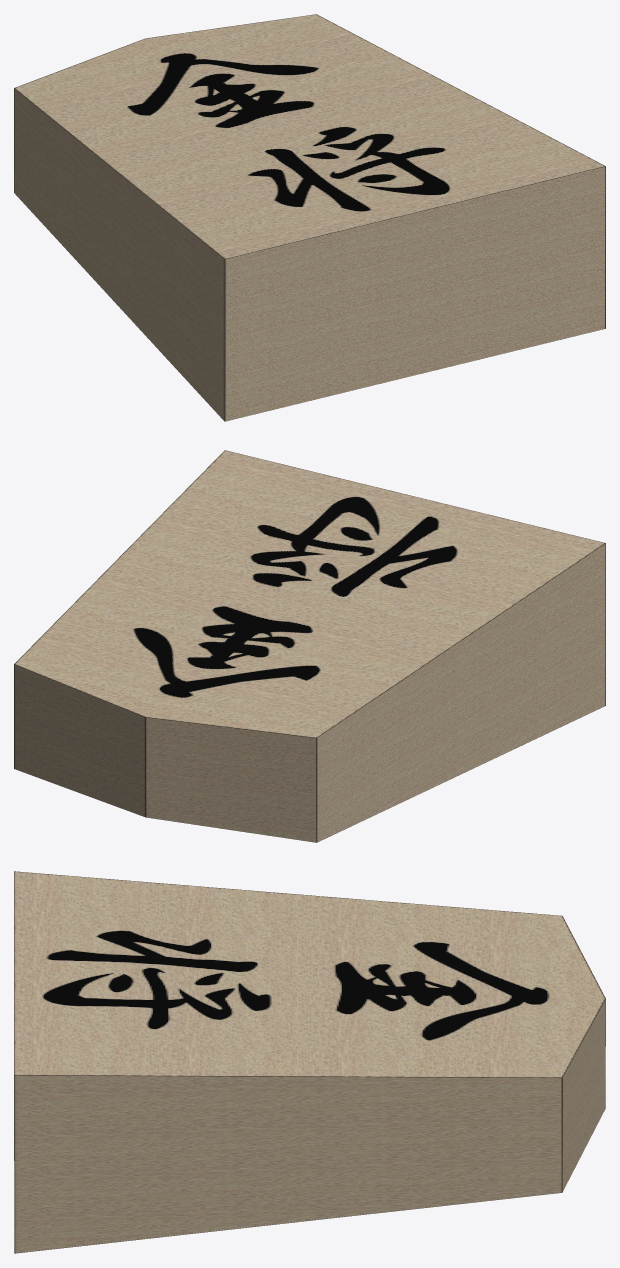
The model's file is 04_Kinsho.fbx.
3 renders of one model, top to bottom at view 1: azimuth 30°, elevation 25°; view 2: azimuth 150°, elevation 25°; view 3: azimuth 270°, elevation 25°, orthographic. The views are drawn at different scales.
Parts seen in each view (by area): view 1: 04_Kinsho; view 2: 04_Kinsho; view 3: 04_Kinsho.
Boxes of the visible parts, x1,y1,x2,y2 form: 04_Kinsho: (14, 14, 605, 421); 04_Kinsho: (14, 450, 605, 842); 04_Kinsho: (14, 871, 605, 1253).
Size of the model in its own units: 0.63 by 0.7727 by 0.2568.
1 material, 1 textured.
